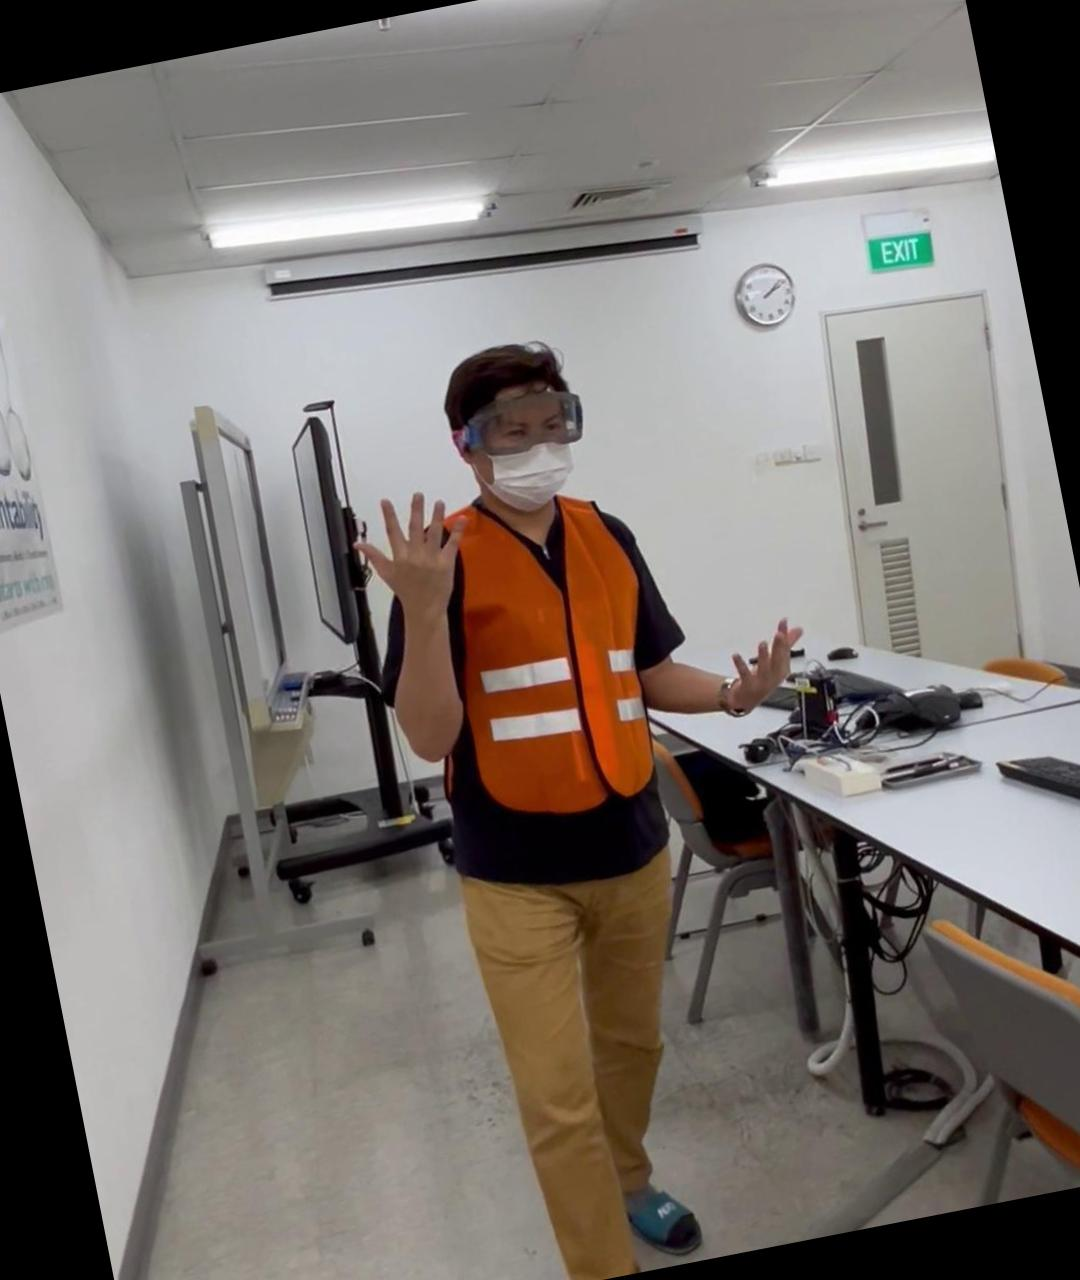No-gloves: (339, 471, 485, 614), (712, 607, 819, 719)
